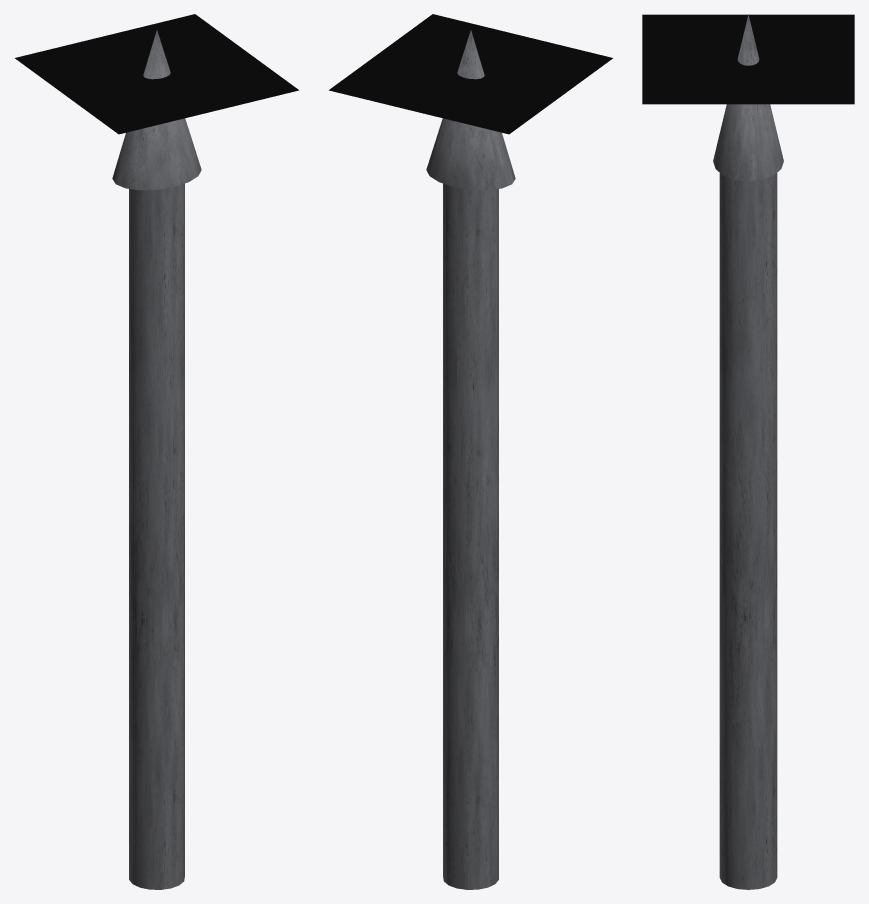
Rendered from SpikeGate.fbx.
The picture shows the model from 3 angles, left to right: view 1: azimuth 30°, elevation 25°; view 2: azimuth 150°, elevation 25°; view 3: azimuth 270°, elevation 25°; orthographic projection.
Visible parts, largest first — view 1: stake, hole_plane; view 2: stake, hole_plane; view 3: stake, hole_plane.
Boxes of the visible parts, x1,y1,x2,y2 form: stake: [112, 30, 201, 889]; hole_plane: [15, 14, 298, 134]; stake: [426, 30, 515, 889]; hole_plane: [329, 14, 612, 134]; stake: [713, 14, 783, 889]; hole_plane: [642, 14, 854, 104].
Size of the model in its own units: 1 by 4.49 by 1.
